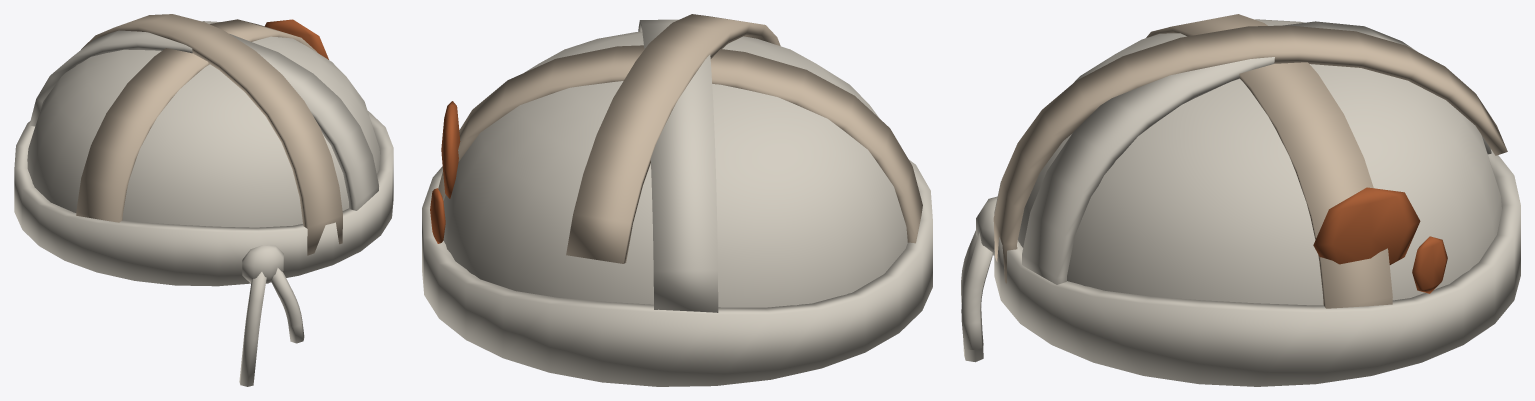
File: hat_bandage.glb
3 renders of one model, left to right at view 1: azimuth 30°, elevation 25°; view 2: azimuth 150°, elevation 25°; view 3: azimuth 270°, elevation 25°, orthographic. The views are drawn at different scales.
Visible parts, largest first — view 1: Hat; view 2: Hat; view 3: Hat.
Boxes of the visible parts, x1,y1,x2,y2 form: Hat: (14,14,393,386); Hat: (422,14,932,386); Hat: (961,14,1520,386).
Bounding box in the file's own units: 0.646 × 0.4857 × 0.6867.
